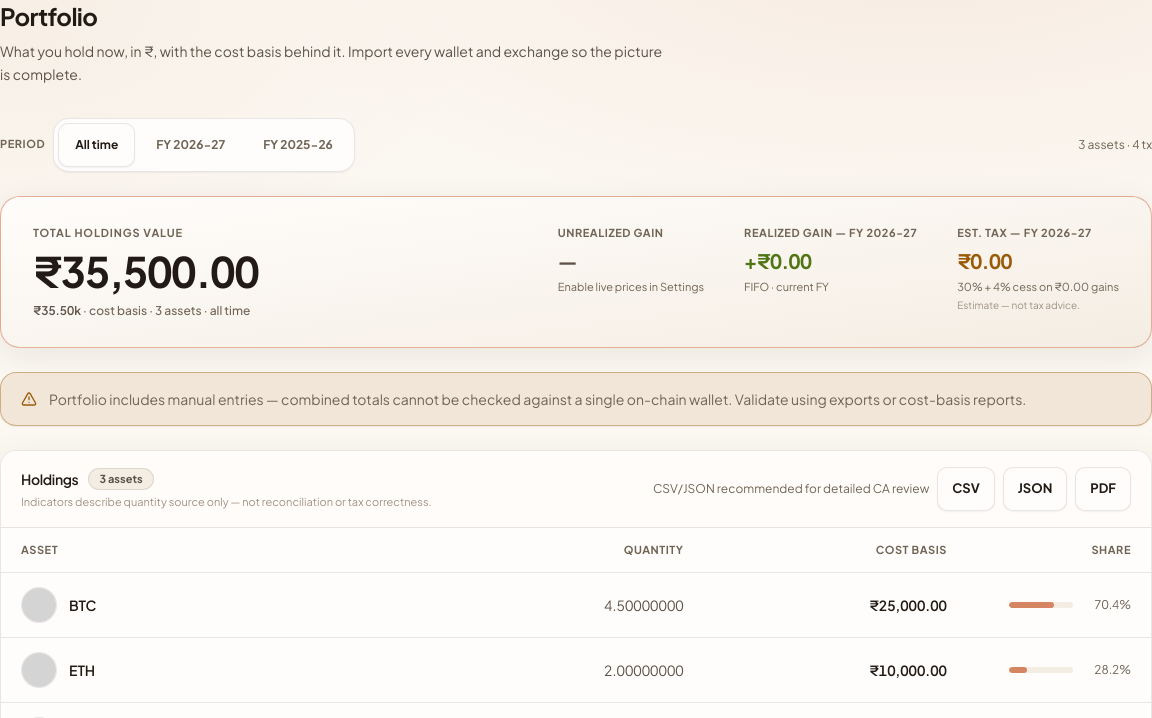
it: PortfolioTab (Ember & Slate) › projects selected FY quantities at the exact FY cutoff
Click the radio button labelled "FY 2025-26" at (298, 144), box [246, 122, 350, 166]
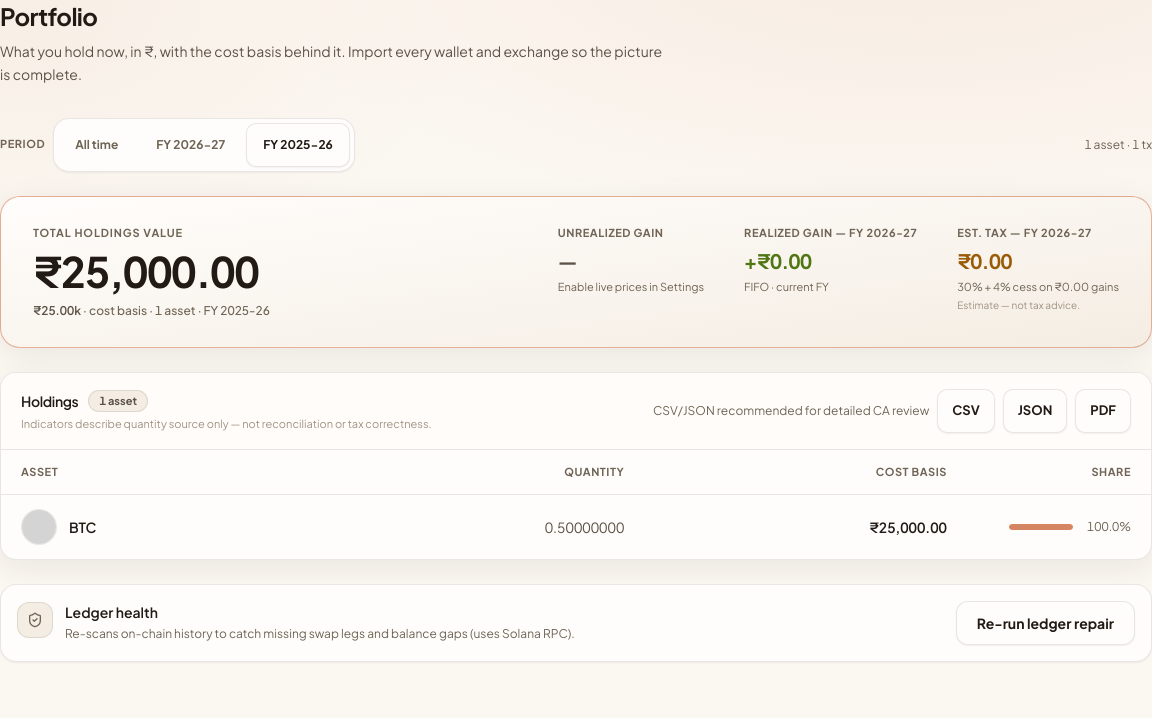
Check: the text "4.50000000" is gone
